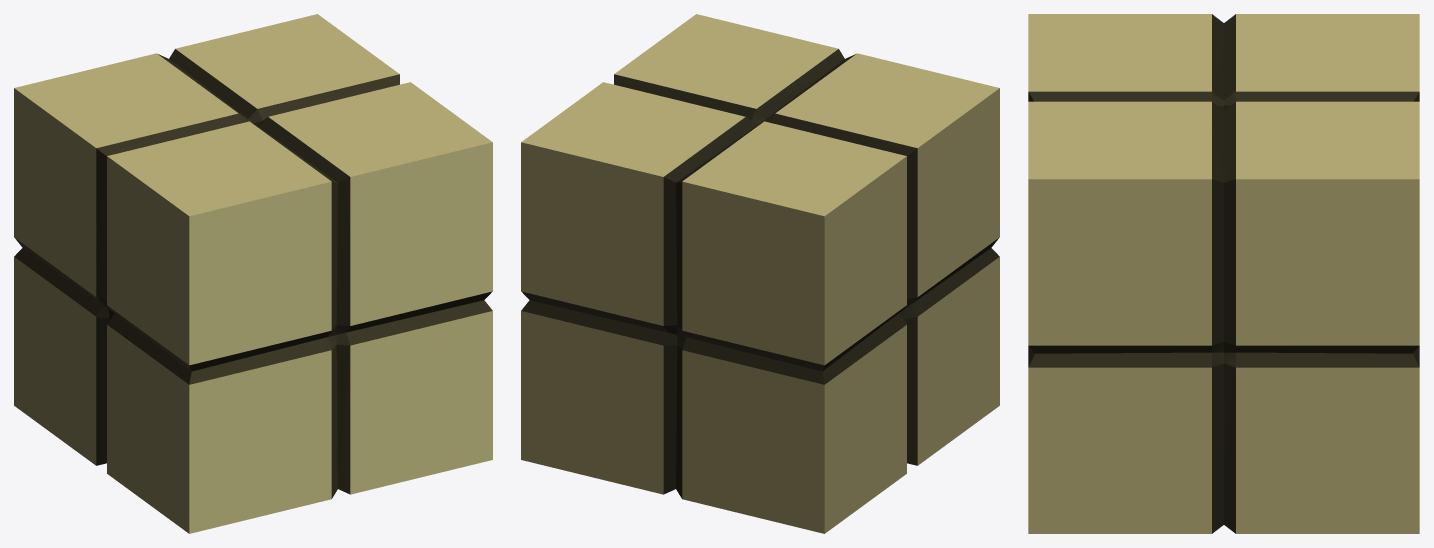
File: NormalCube.FBX
The picture shows the model from 3 angles, left to right: view 1: azimuth 30°, elevation 25°; view 2: azimuth 150°, elevation 25°; view 3: azimuth 270°, elevation 25°; orthographic projection. The views are drawn at different scales.
Visible parts, largest first — view 1: CuboNormal; view 2: CuboNormal; view 3: CuboNormal.
Boxes of the visible parts, x1=… form: CuboNormal: x1=14, y1=14, x2=492, y2=533; CuboNormal: x1=521, y1=14, x2=999, y2=533; CuboNormal: x1=1028, y1=14, x2=1419, y2=533.
Bounding box in the file's own units: 1 × 1 × 1.
